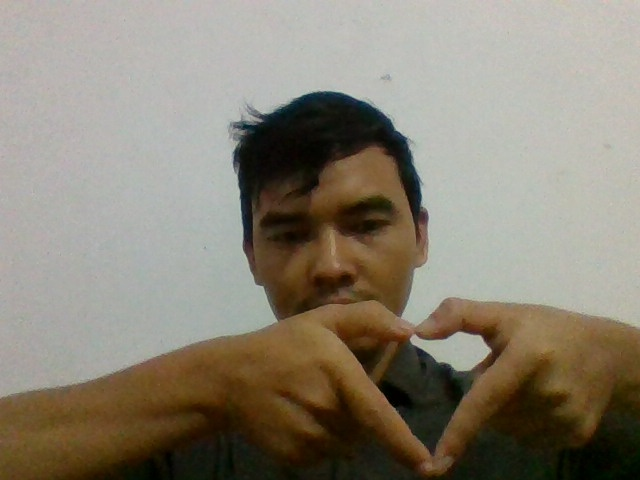iloveyou: (276, 296, 551, 480)
